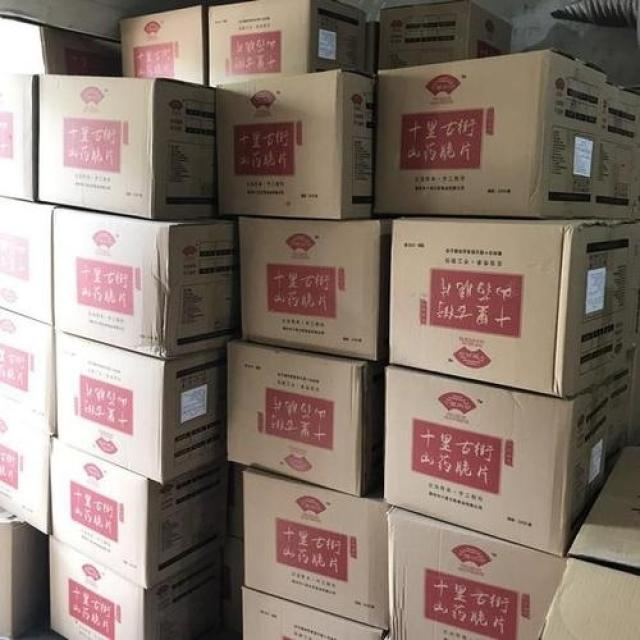box: (383, 369, 638, 557), (376, 50, 639, 218), (390, 219, 639, 396), (52, 204, 243, 357), (52, 327, 232, 486), (47, 439, 234, 588), (37, 75, 218, 219), (386, 504, 572, 639), (226, 342, 384, 497), (241, 466, 389, 629), (216, 71, 376, 219), (237, 219, 383, 358), (46, 542, 235, 639), (208, 1, 369, 80), (377, 1, 515, 69), (565, 442, 638, 569), (240, 585, 390, 639), (538, 558, 639, 638), (0, 12, 120, 75), (0, 195, 56, 327), (0, 308, 57, 436), (118, 4, 205, 84), (0, 416, 53, 538), (1, 513, 49, 635), (0, 72, 38, 200)
